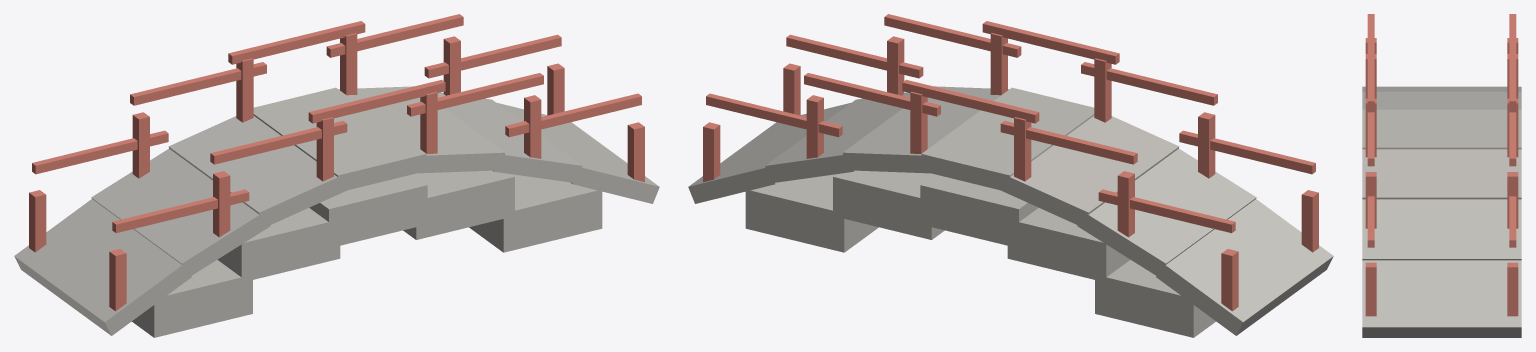
The model's file is SM_Env_Bridge.fbx.
3 renders of one model, left to right at view 1: azimuth 30°, elevation 25°; view 2: azimuth 150°, elevation 25°; view 3: azimuth 270°, elevation 25°, orthographic. The views are drawn at different scales.
Parts seen in each view (by area): view 1: Bridge; view 2: Bridge; view 3: Bridge.
Boxes of the visible parts, x1,y1,x2,y2 form: Bridge: (14,14,659,337); Bridge: (688,14,1333,337); Bridge: (1362,14,1521,337).
Size of the model in its own units: 8.14 by 2.59 by 2.3.
